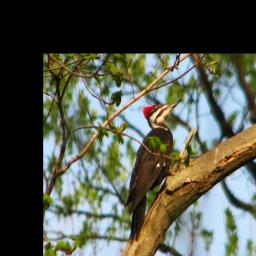Woodpecker: (123, 95, 186, 246)
